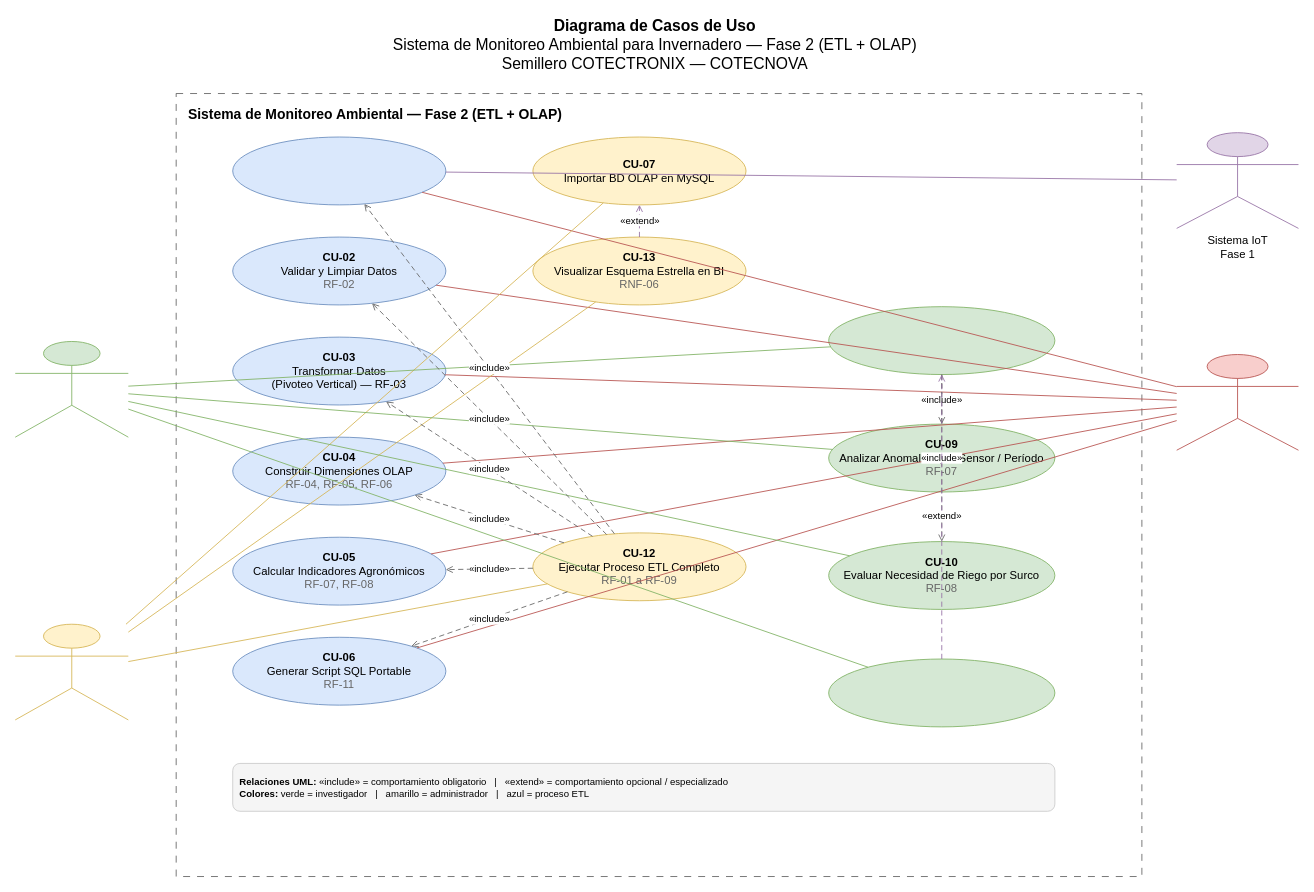
The diagram is 1314 pixels wide and 892 high, and some of its shapes have lost their labels. Each missing label, with the box of its shape:
Administrador de BD: (14, 623, 128, 720)
CU-01 Extraer Dataset Histórico CSV RF-01: (232, 136, 446, 205)
CU-08 Consultar Analítica Multidimensional RF-10: (828, 306, 1055, 375)
CU-11 Comparar Tratamientos Agronómicos RF-10: (828, 658, 1055, 727)
Investigador / Docente: (14, 341, 128, 437)
Script ETL (etl_polars.py): (1176, 354, 1298, 450)
